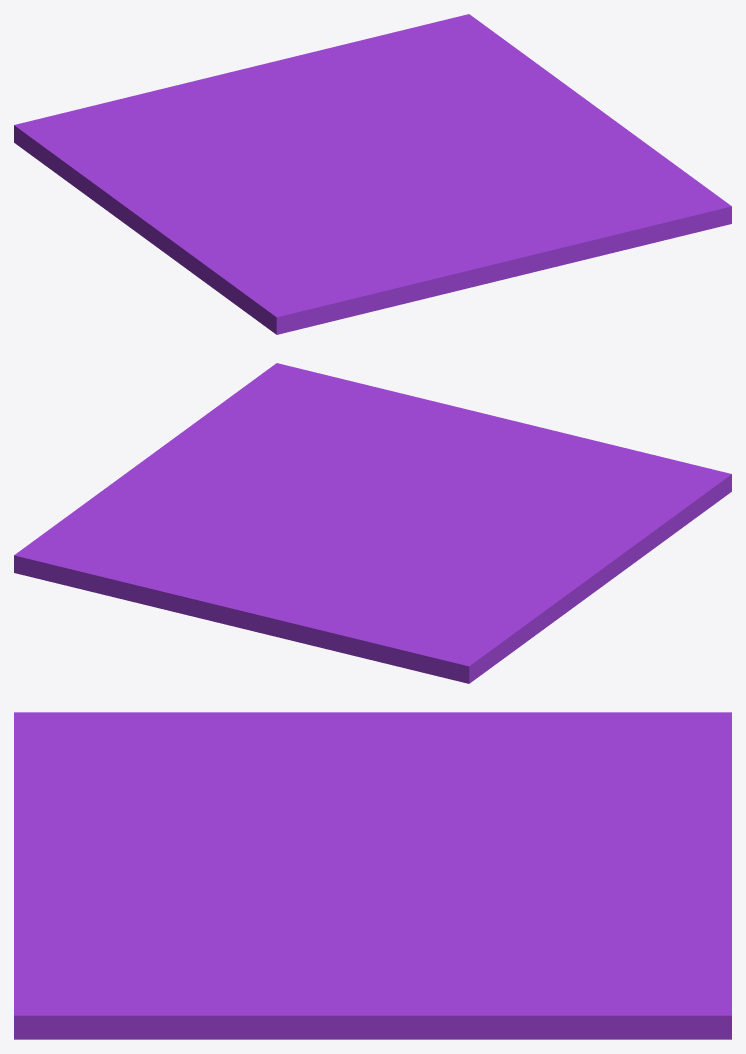
The model's file is Platform_22_chunks.fbx.
3 renders of one model, top to bottom at view 1: azimuth 30°, elevation 25°; view 2: azimuth 150°, elevation 25°; view 3: azimuth 270°, elevation 25°, orthographic. The views are drawn at different scales.
Parts seen in each view (by area): view 1: Platform_22_11, Platform_22_7, Platform_22_2, Platform_22_0, Platform_22_1, Platform_22_5, Platform_22_14, Platform_22_4, Platform_22_9, Platform_22_12, Platform_22_6, Platform_22_3 (+2 smaller); view 2: Platform_22_7, Platform_22_11, Platform_22_1, Platform_22_5, Platform_22_2, Platform_22_14, Platform_22_0, Platform_22_4, Platform_22_9, Platform_22_12, Platform_22_6, Platform_22_3 (+2 smaller); view 3: Platform_22_7, Platform_22_11, Platform_22_5, Platform_22_2, Platform_22_1, Platform_22_4, Platform_22_0, Platform_22_14, Platform_22_9, Platform_22_6, Platform_22_12, Platform_22_3 (+3 smaller).
Boxes of the visible parts, x1,y1,x2,y2 form: Platform_22_11: (14,86,268,203); Platform_22_7: (197,14,536,107); Platform_22_2: (528,153,731,273); Platform_22_0: (263,192,494,334); Platform_22_1: (364,158,515,281); Platform_22_5: (414,63,616,154); Platform_22_14: (185,223,332,324); Platform_22_4: (399,122,659,187); Platform_22_9: (237,123,370,220); Platform_22_12: (92,175,231,267); Platform_22_6: (175,80,384,163); Platform_22_3: (492,185,572,276); Platform_22_7: (14,506,286,636); Platform_22_11: (308,561,552,683); Platform_22_1: (346,421,565,516); Platform_22_5: (82,447,323,528); Platform_22_2: (205,363,435,444); Platform_22_14: (520,474,731,557); Platform_22_0: (431,433,731,504); Platform_22_4: (162,416,350,508); Platform_22_9: (338,497,500,573); Platform_22_12: (482,537,641,622); Platform_22_6: (256,512,368,645); Platform_22_3: (332,402,516,455); Platform_22_7: (507,834,731,1039); Platform_22_11: (450,712,731,840); Platform_22_5: (310,897,551,1039); Platform_22_2: (14,909,223,1039); Platform_22_1: (14,822,380,915); Platform_22_4: (206,881,374,1039); Platform_22_0: (14,712,304,841); Platform_22_14: (15,712,308,797); Platform_22_9: (237,792,562,864); Platform_22_6: (378,819,731,899); Platform_22_12: (261,712,516,767); Platform_22_3: (14,856,221,932).
Bounding box in the file's own units: 810 × 29.87 × 810.
